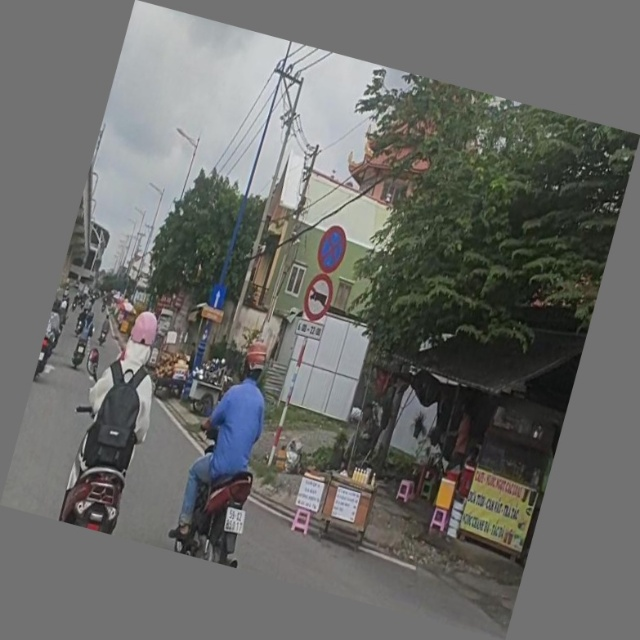B.8a: (300, 272, 338, 324)
P.130: (313, 223, 351, 275)
